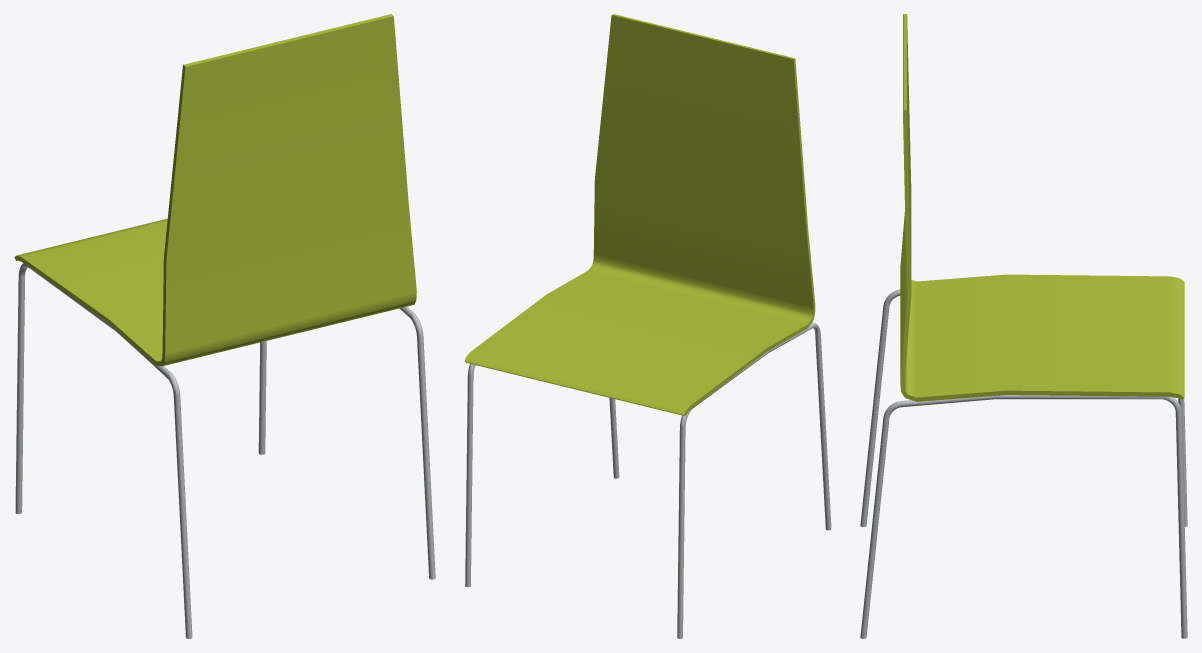
File: chair15.glb
The picture shows the model from 3 angles, left to right: view 1: azimuth 30°, elevation 25°; view 2: azimuth 150°, elevation 25°; view 3: azimuth 270°, elevation 25°; orthographic projection. The views are drawn at different scales.
Parts seen in each view (by area): view 1: chair15; view 2: chair15; view 3: chair15.
Part boxes in pixels (box(x1,y1,x2,y2)): chair15: box(14, 14, 435, 638); chair15: box(464, 14, 831, 638); chair15: box(860, 14, 1187, 638).
Size of what is drawn, in the model's own units: 0.4478 by 0.9351 by 0.5336.
Materials: 1 (1 with a texture image).
